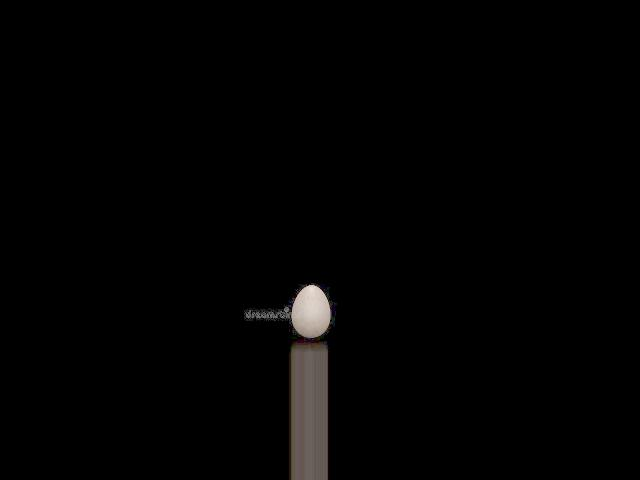egg: (292, 285, 330, 338)
